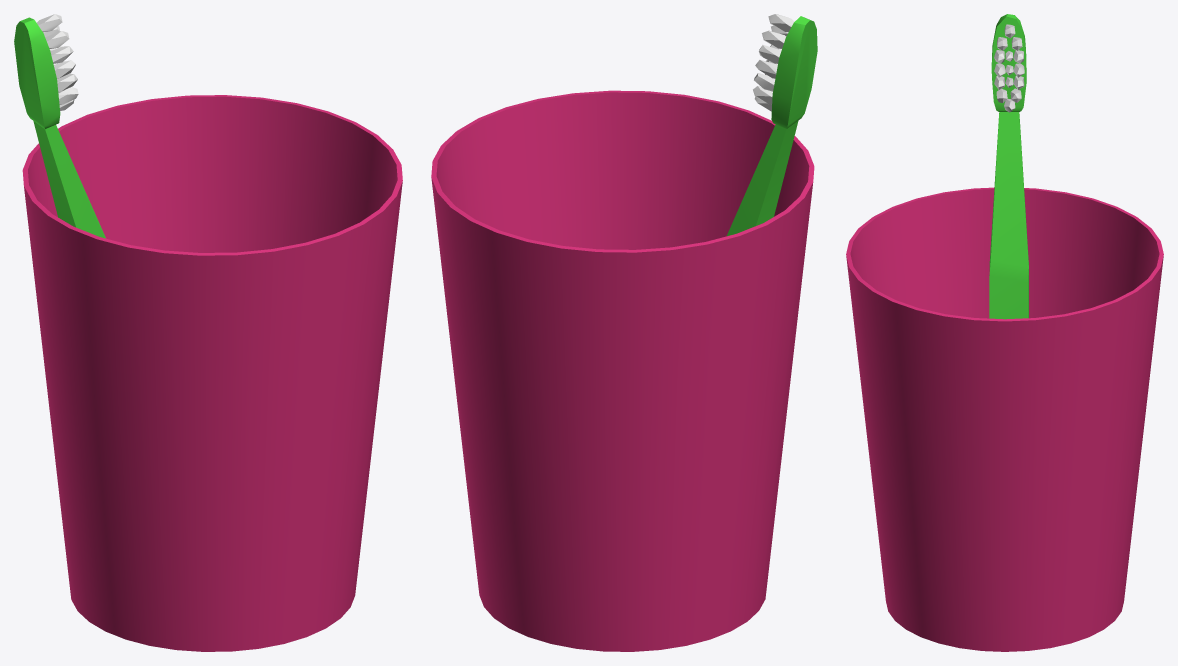
Rendered from Cup-Brush.fbx.
3 renders of one model, left to right at view 1: azimuth 30°, elevation 25°; view 2: azimuth 150°, elevation 25°; view 3: azimuth 270°, elevation 25°, orthographic. The views are drawn at different scales.
Parts seen in each view (by area): view 1: Cup, Brush; view 2: Cup, Brush; view 3: Cup, Brush.
Part boxes in pixels (left/top/right/bottom): Cup: left=22, top=95, right=402, bottom=651; Brush: left=14, top=14, right=105, bottom=238; Cup: left=431, top=90, right=814, bottom=651; Brush: left=727, top=14, right=817, bottom=236; Cup: left=846, top=187, right=1163, bottom=651; Brush: left=989, top=14, right=1028, bottom=319.
Size of the model in its own units: 78.07 by 130 by 73.12.
